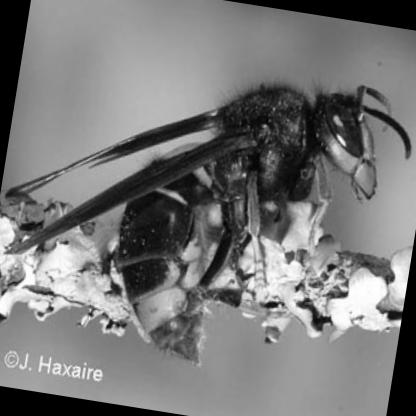asian: (3, 26, 415, 415)
